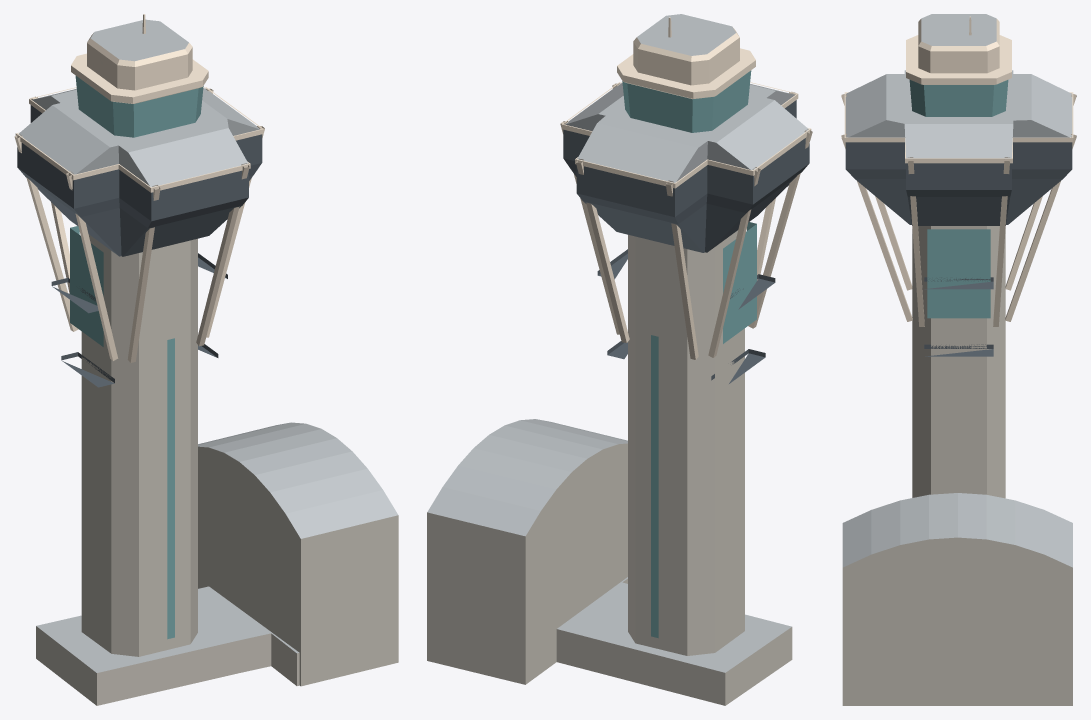
The model's file is la-lax-control-tower.glb.
3 renders of one model, left to right at view 1: azimuth 30°, elevation 25°; view 2: azimuth 150°, elevation 25°; view 3: azimuth 270°, elevation 25°, orthographic. The views are drawn at different scales.
Visible parts, largest first — view 1: LAX Airport Traffic Control Tower; view 2: LAX Airport Traffic Control Tower; view 3: LAX Airport Traffic Control Tower.
Part boxes in pixels (x1=…): LAX Airport Traffic Control Tower: x1=14, y1=14, x2=398, y2=705; LAX Airport Traffic Control Tower: x1=427, y1=14, x2=812, y2=705; LAX Airport Traffic Control Tower: x1=841, y1=14, x2=1076, y2=705.
Size of the model in its own units: 42.26 by 88.2 by 31.13.
